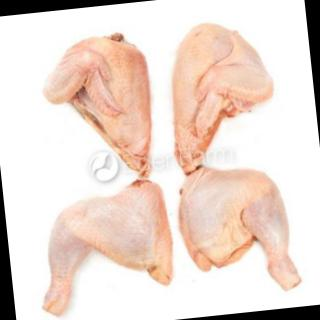Ayam: (33, 177, 178, 320), (39, 30, 159, 189), (162, 17, 282, 173), (174, 161, 304, 301)
